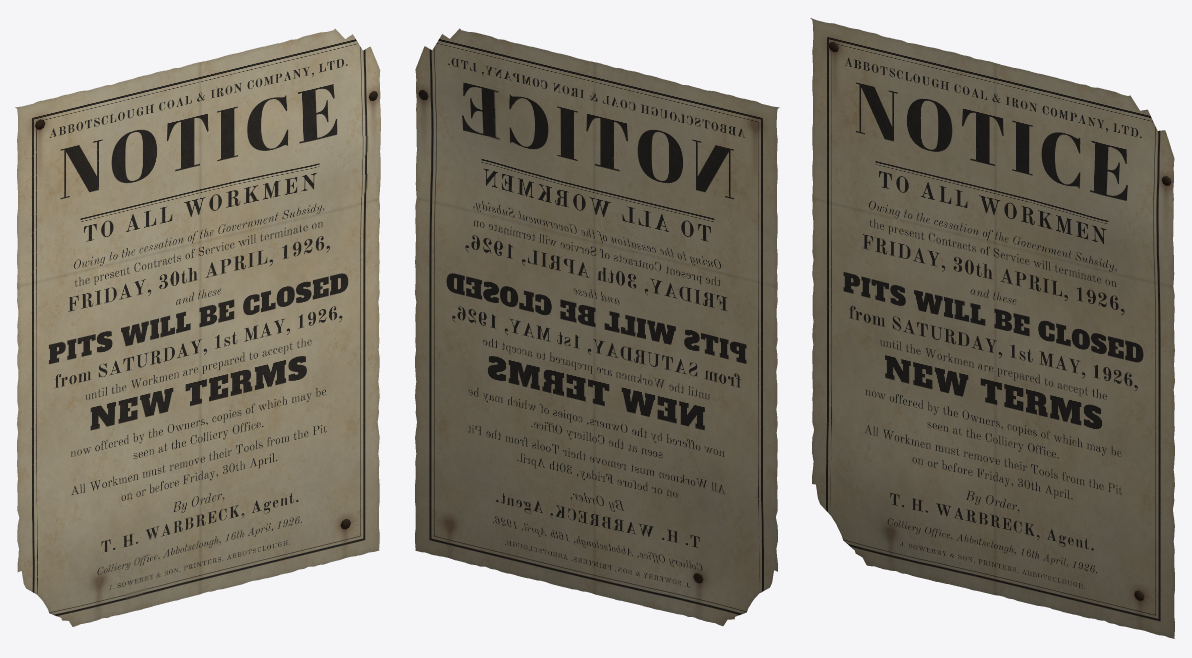
The model's file is notice-paper.glb.
3 views of the same model, side by side, from view 1: azimuth 30°, elevation 25°; view 2: azimuth 150°, elevation 25°; view 3: azimuth 330°, elevation 25° (orthographic).
Visible parts, largest first — view 1: notice; view 2: notice; view 3: notice.
Part boxes in pixels (x1,y1,x2,y2): notice: (15,29,380,626); notice: (415,28,779,625); notice: (810,18,1174,638).
Size of the model in its own units: 0.5 by 0.7 by 0.00793.
2 materials, 2 textured.
